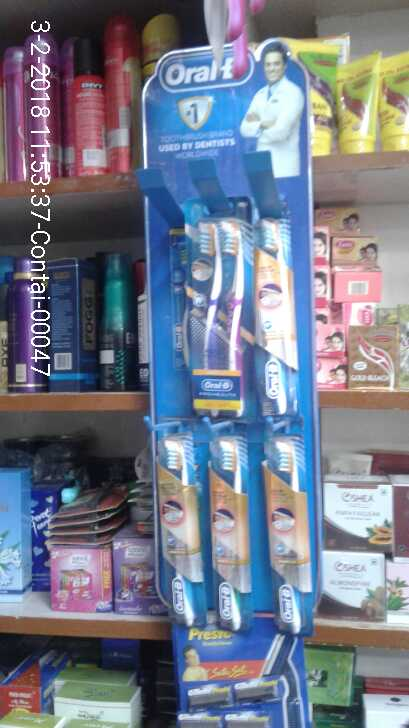oralb: (255, 431, 314, 636), (193, 220, 244, 413), (158, 437, 205, 631), (259, 218, 303, 414), (207, 434, 250, 630)
